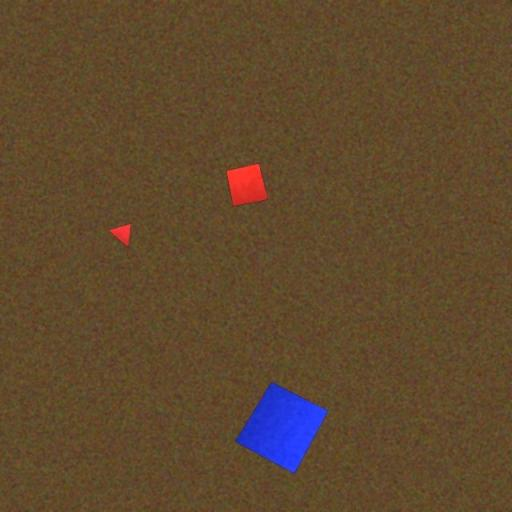BLUE_SQUARE: (234, 382, 329, 475)
RED_SQUARE: (226, 162, 268, 208)
